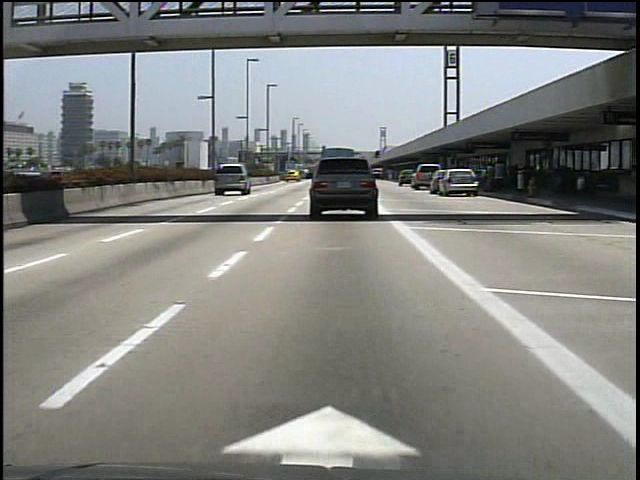person: (490, 156, 510, 195), (480, 161, 494, 194)
